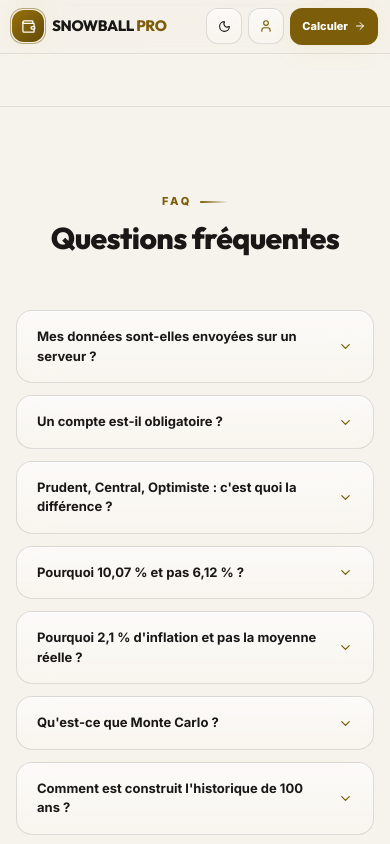
it: v6.1 — landing page › déplie la FAQ au clic
(page scrolled)
Click the button "Un compte est-il obligatoire ?" at (195, 422), box [17,396,373,448]
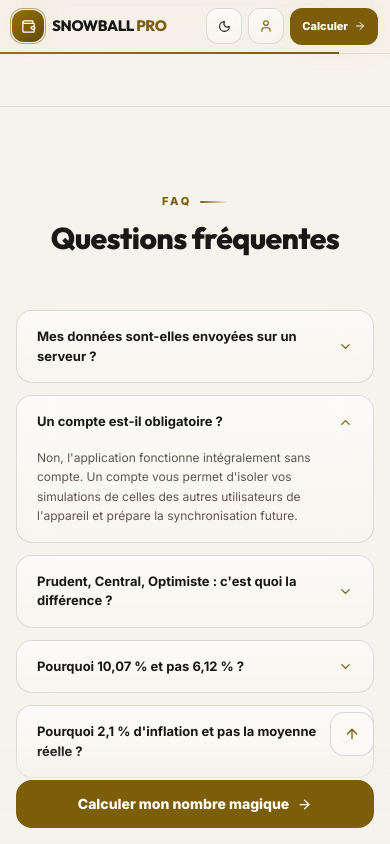
Expected: the button "Un compte est-il obligatoire ?" is expanded, [17,396,373,448]
Expected: the text "Non, l'application fonctionne intégralement sans compte" is shown, [37,450,311,523]
